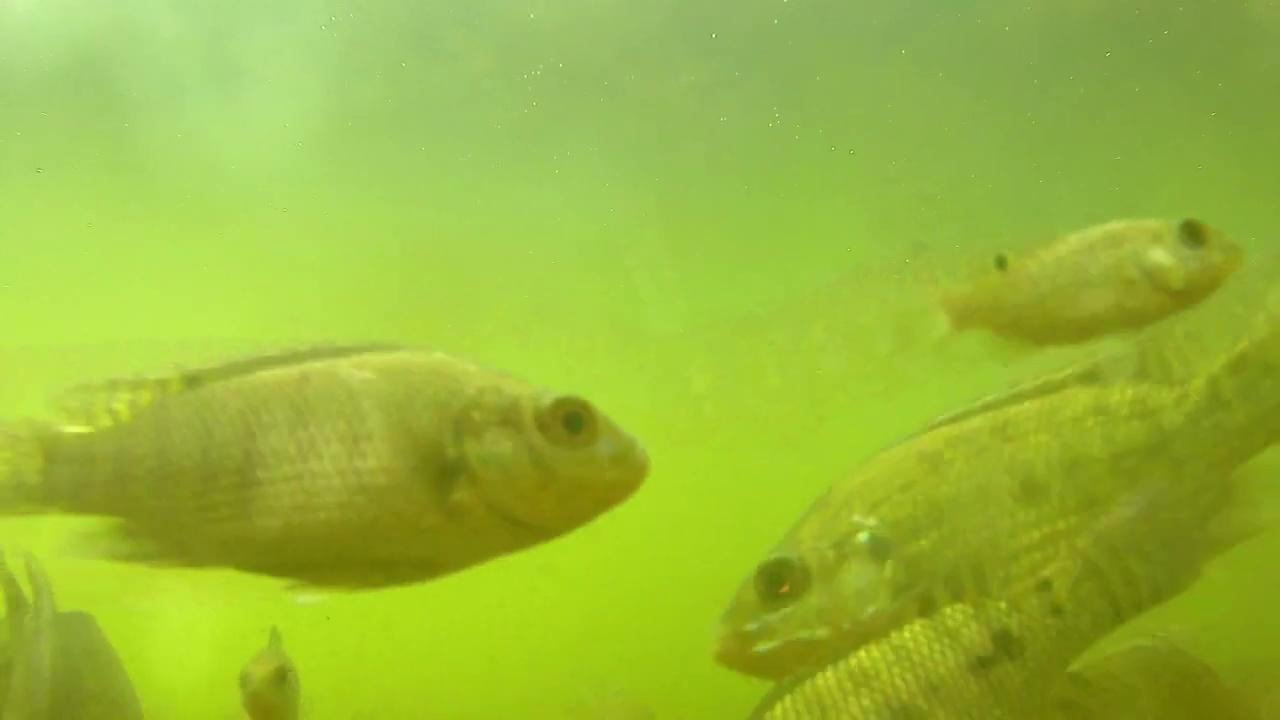Tilapia: (713, 344, 1280, 664), (1, 338, 656, 594), (923, 198, 1246, 344), (239, 632, 308, 720)
